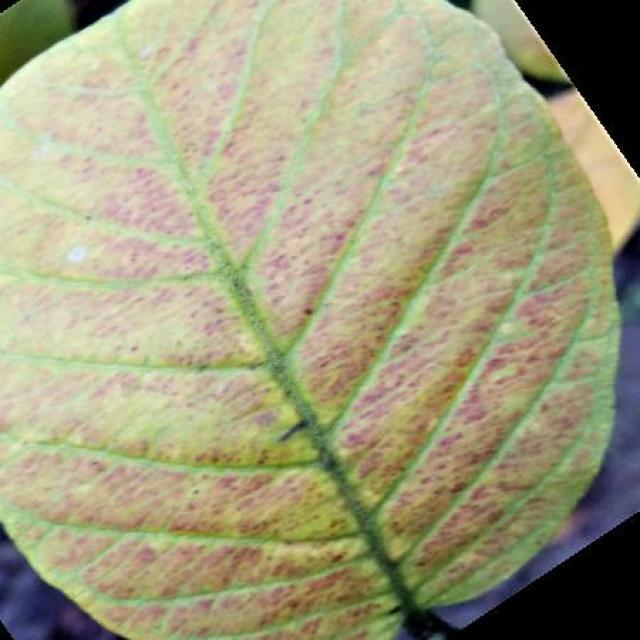Red Rust: (0, 2, 618, 640)
